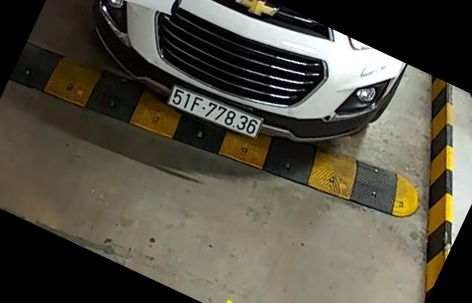plate: (163, 74, 261, 145)
